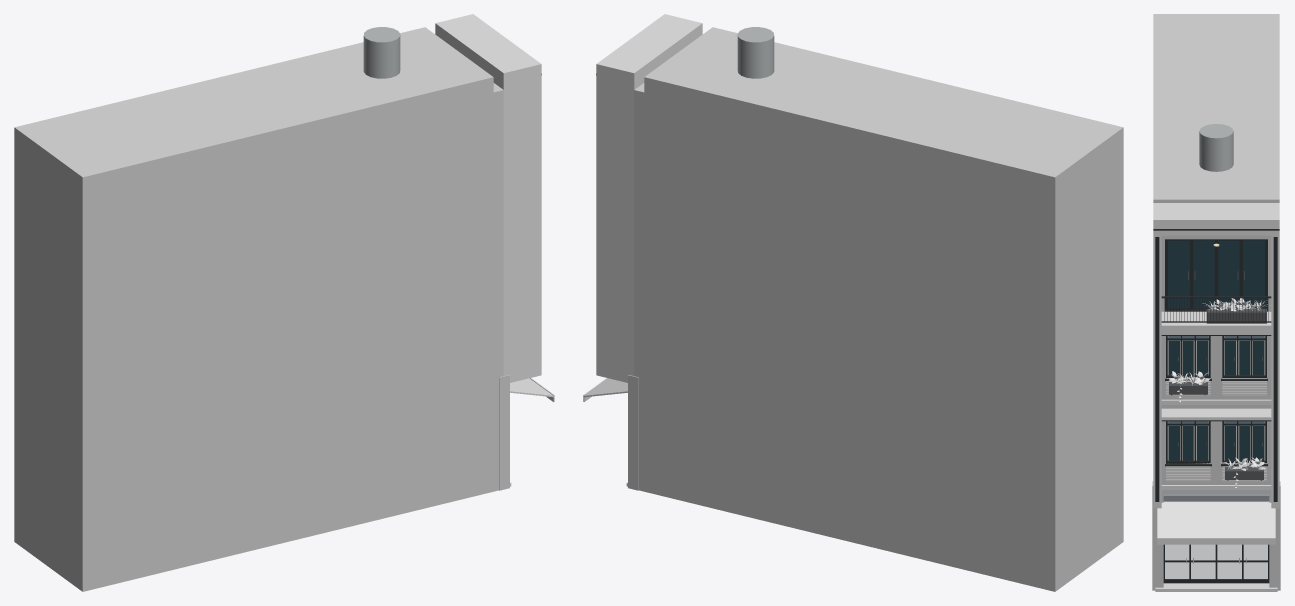
Rendered from OW_Mau_NhaPho_4_5_0.fbx.
The picture shows the model from 3 angles, left to right: view 1: azimuth 30°, elevation 25°; view 2: azimuth 150°, elevation 25°; view 3: azimuth 270°, elevation 25°; orthographic projection. The views are drawn at different scales.
Visible parts, largest first — view 1: OW_NhaPho_9000; view 2: OW_NhaPho_9000; view 3: OW_NhaPho_9000, OW_MatTienKinh.
Boxes of the visible parts, x1,y1,x2,y2 form: OW_NhaPho_9000: (14, 14, 554, 591); OW_NhaPho_9000: (583, 14, 1123, 591); OW_NhaPho_9000: (1152, 14, 1280, 591); OW_MatTienKinh: (1163, 494, 1269, 583).
Bounding box in the file's own units: 17.77 × 16.15 × 4.5.
